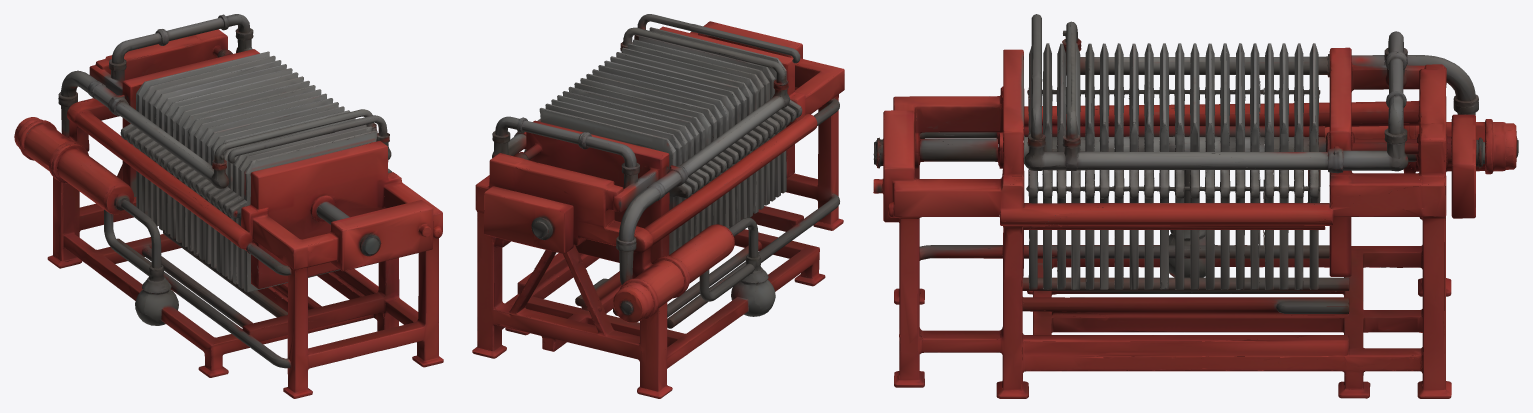
Rendered from filtro.glb.
The picture shows the model from 3 angles, left to right: view 1: azimuth 30°, elevation 25°; view 2: azimuth 150°, elevation 25°; view 3: azimuth 270°, elevation 25°; orthographic projection. The views are drawn at different scales.
Visible parts, largest first — view 1: material; view 2: material; view 3: material.
Part boxes in pixels (x1=…): material: x1=14, y1=14, x2=443, y2=398; material: x1=472, y1=14, x2=844, y2=398; material: x1=873, y1=14, x2=1518, y2=398.
Bounding box in the file's own units: 0.4907 × 0.528 × 1.06.
Materials: 1 (1 with a texture image).
